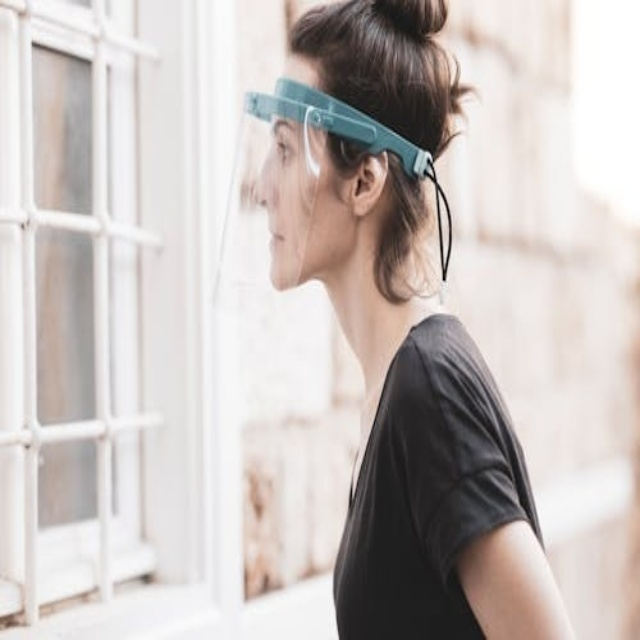Sin_gafas: (261, 117, 306, 173)
Sin_mascara: (256, 215, 294, 284)
